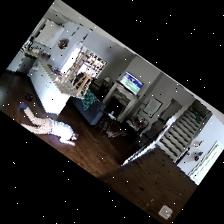person: (17, 102, 77, 145)
